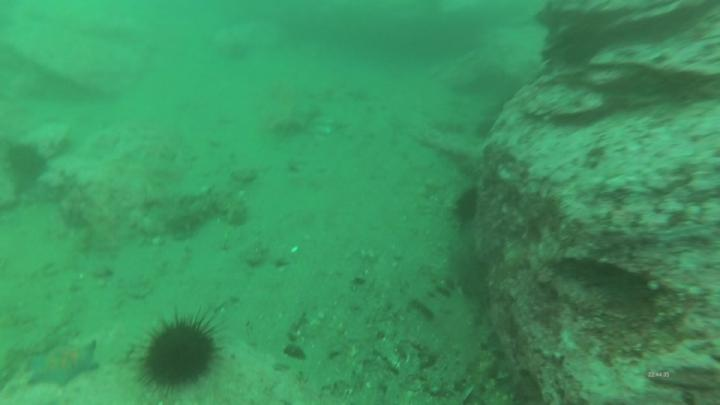echinus: (132, 318, 222, 399), (452, 181, 485, 224)
holothurian: (160, 185, 252, 239)
starfish: (21, 338, 107, 390)
